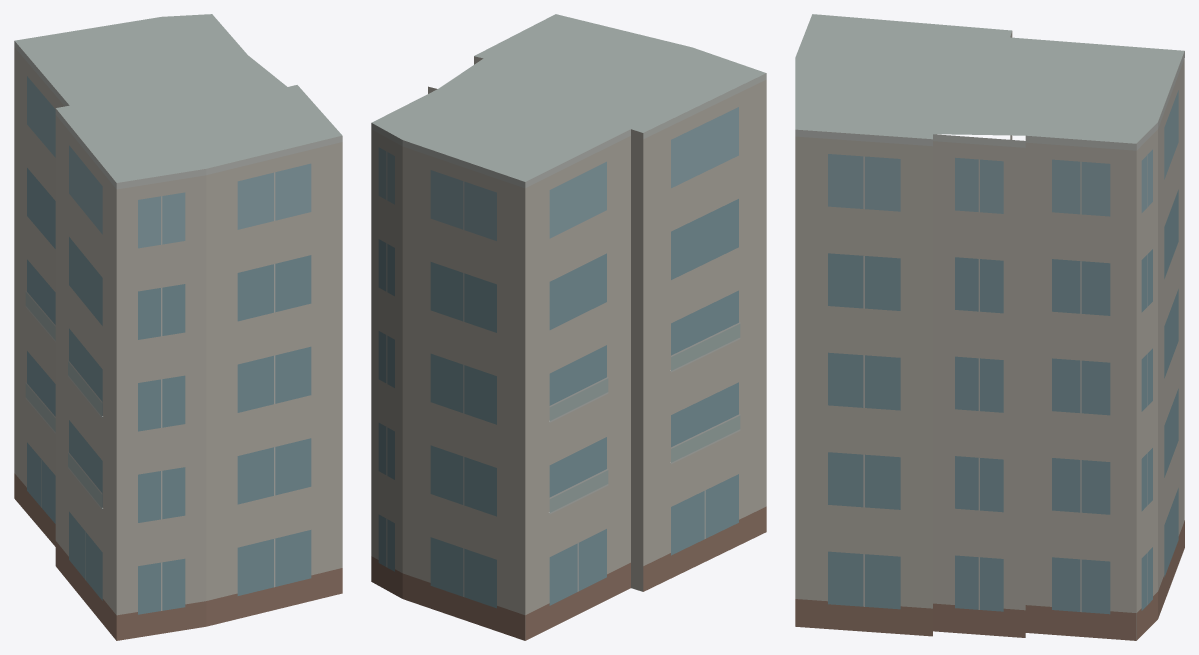
File: survey-upis-32472713.glb
3 views of the same model, side by side, from view 1: azimuth 30°, elevation 25°; view 2: azimuth 150°, elevation 25°; view 3: azimuth 270°, elevation 25° (orthographic). The views are drawn at different scales.
Parts seen in each view (by area): view 1: survey-upis-32472713.tmp; view 2: survey-upis-32472713.tmp; view 3: survey-upis-32472713.tmp.
Boxes of the visible parts, box(x1,y1,x2,y2) form: survey-upis-32472713.tmp: box(14, 14, 342, 640); survey-upis-32472713.tmp: box(371, 14, 766, 640); survey-upis-32472713.tmp: box(795, 14, 1184, 640).
Bounding box in the file's own units: 9.75 × 17.4 × 12.37.
